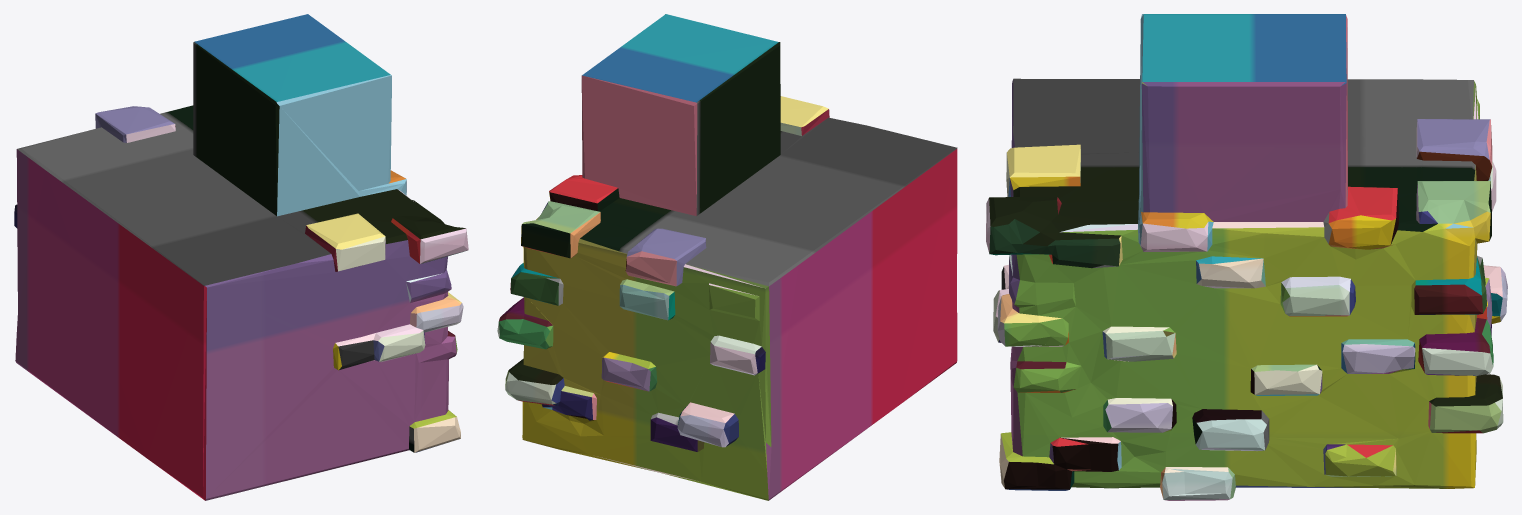
The model's file is fireplace.fbx.
3 views of the same model, side by side, from view 1: azimuth 30°, elevation 25°; view 2: azimuth 150°, elevation 25°; view 3: azimuth 270°, elevation 25° (orthographic). The views are drawn at different scales.
Visible parts, largest first — view 1: fireplace; view 2: fireplace; view 3: fireplace.
Boxes of the visible parts, x1,y1,x2,y2 form: fireplace: (14, 14, 468, 500); fireplace: (497, 14, 957, 500); fireplace: (986, 14, 1507, 500).
Size of the model in its own units: 1.31 by 1.57 by 1.8.
